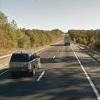Car: (10, 44, 51, 79)
